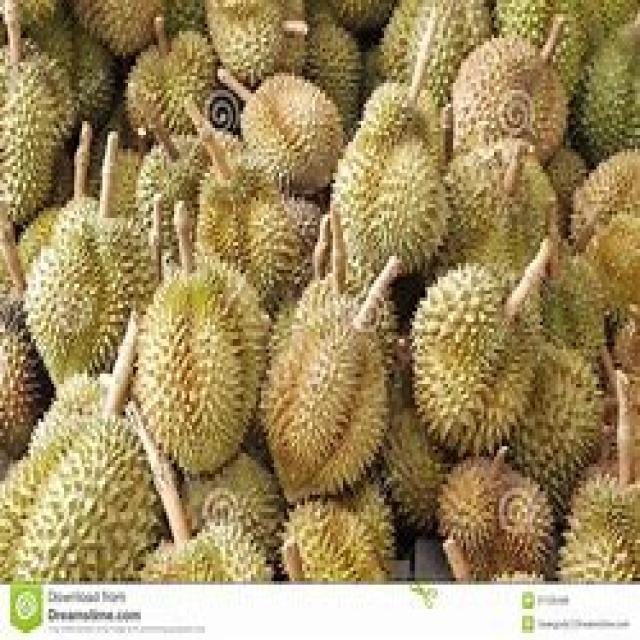mature: (260, 280, 388, 503), (439, 448, 552, 581), (452, 35, 569, 163), (241, 73, 344, 196)
